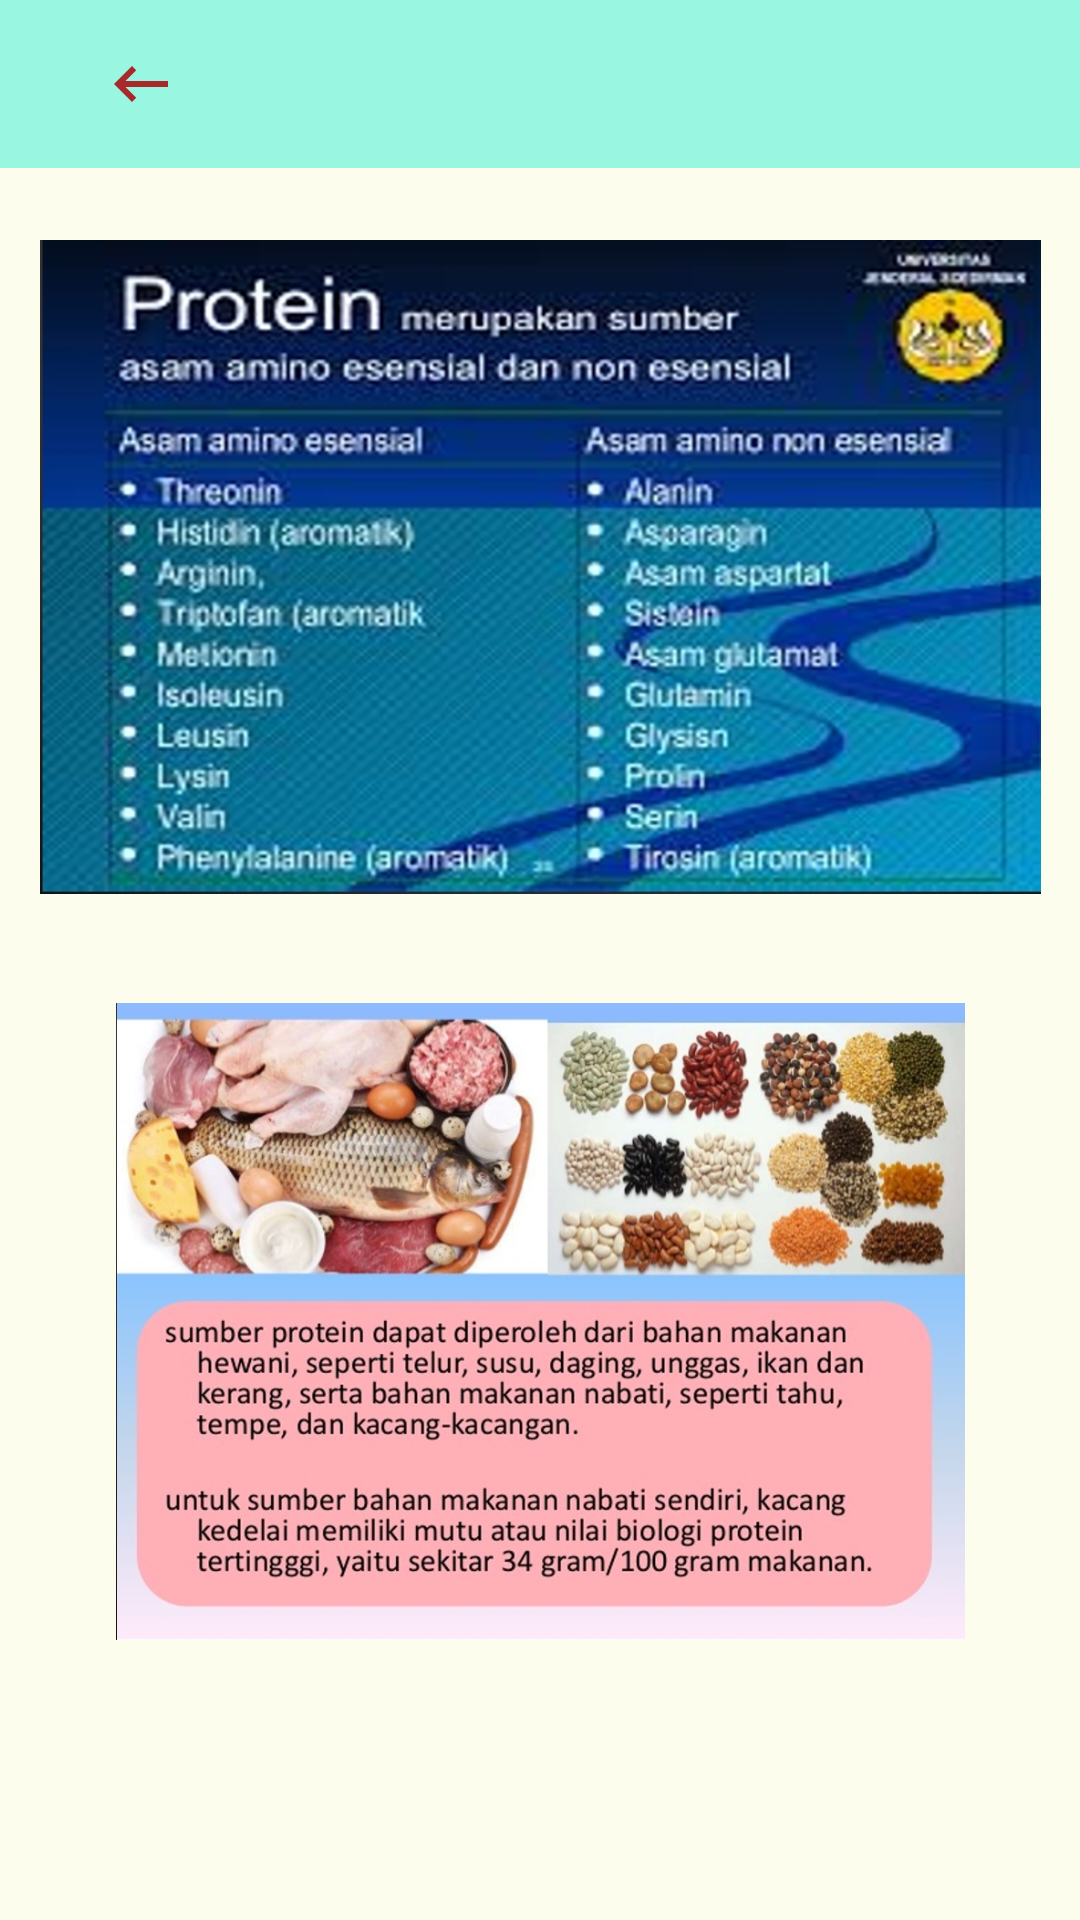

Where to tap for icons on this 1080x1920 app screen, as (x,y):
arrow back: (141,84)
